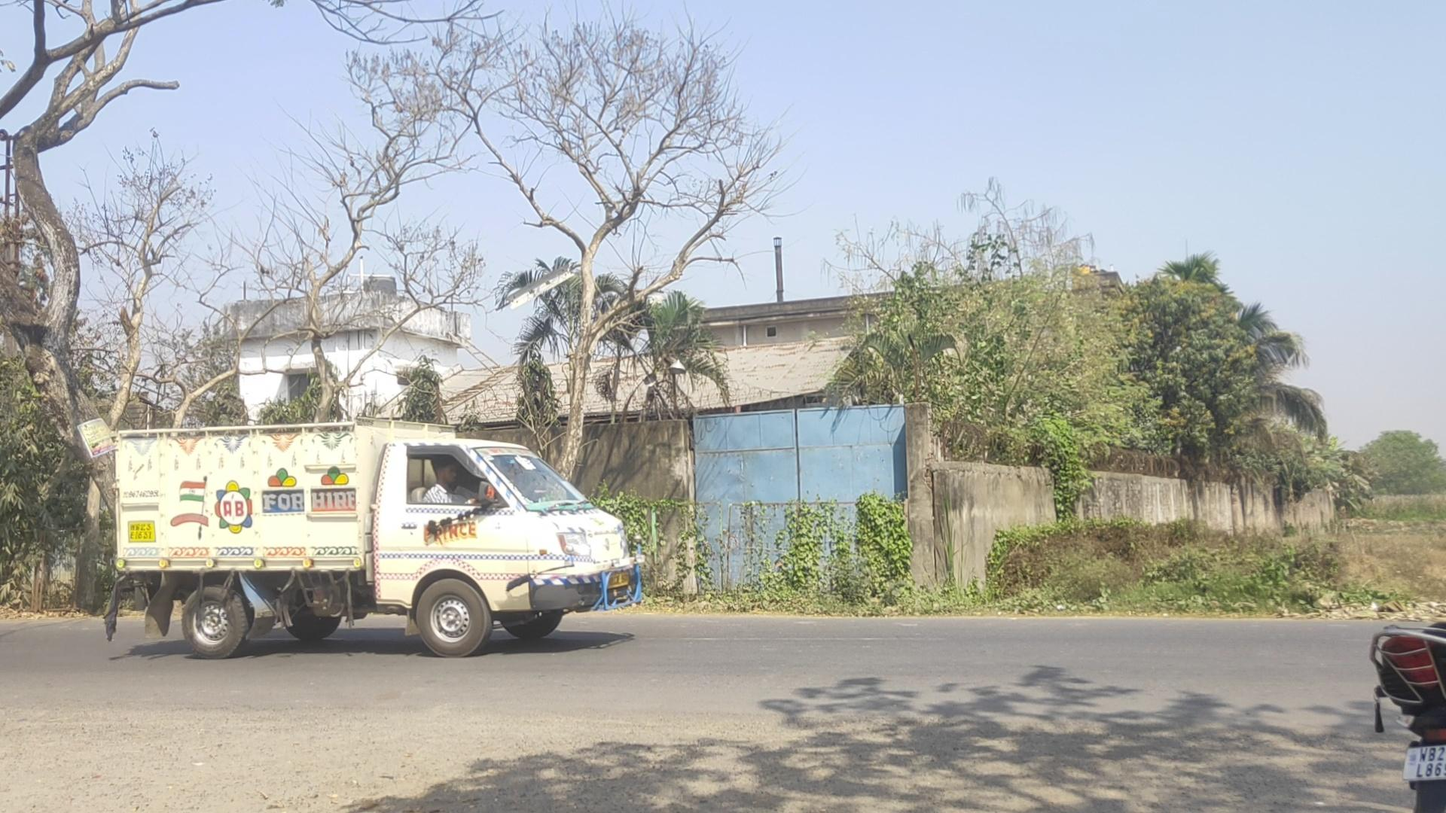van: (108, 414, 645, 657)
